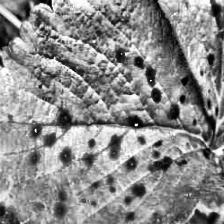Leaf Spot: (0, 0, 224, 224), (146, 0, 224, 139)
